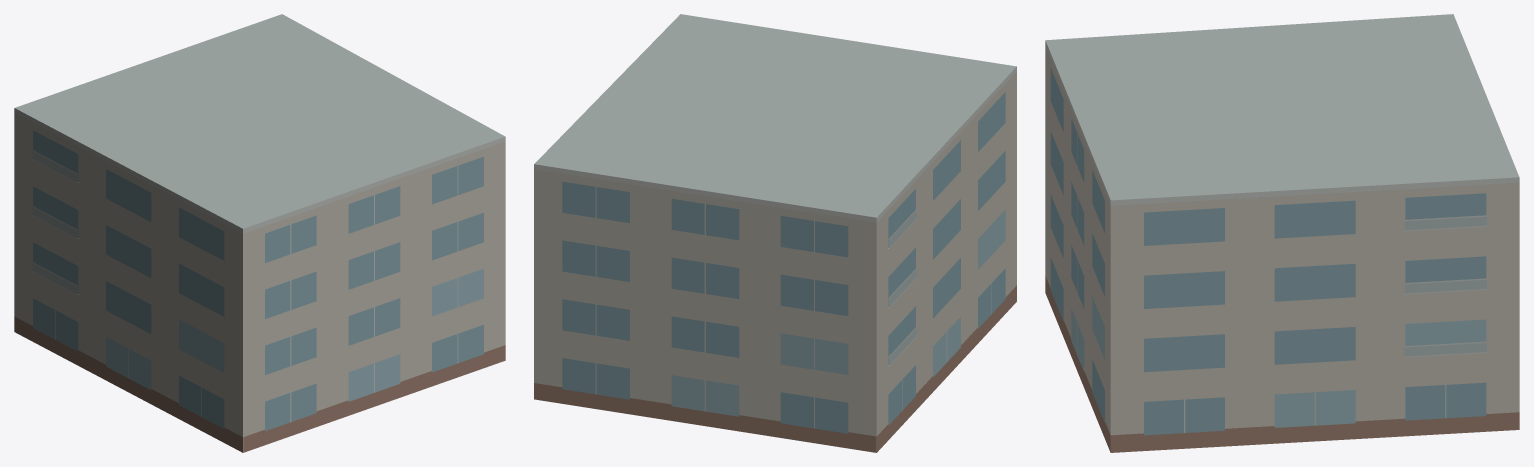
File: survey-upis-32705914.glb
3 renders of one model, left to right at view 1: azimuth 30°, elevation 25°; view 2: azimuth 150°, elevation 25°; view 3: azimuth 270°, elevation 25°, orthographic. The views are drawn at different scales.
Visible parts, largest first — view 1: survey-upis-32705914.tmp; view 2: survey-upis-32705914.tmp; view 3: survey-upis-32705914.tmp.
Boxes of the visible parts, left/top/right/bottom form: survey-upis-32705914.tmp: left=14, top=14, right=505, bottom=452; survey-upis-32705914.tmp: left=534, top=14, right=1016, bottom=452; survey-upis-32705914.tmp: left=1045, top=14, right=1519, bottom=452.
Size of the model in its own units: 17.98 by 11.35 by 19.33.
